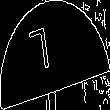L_S: (42, 27, 68, 83)
